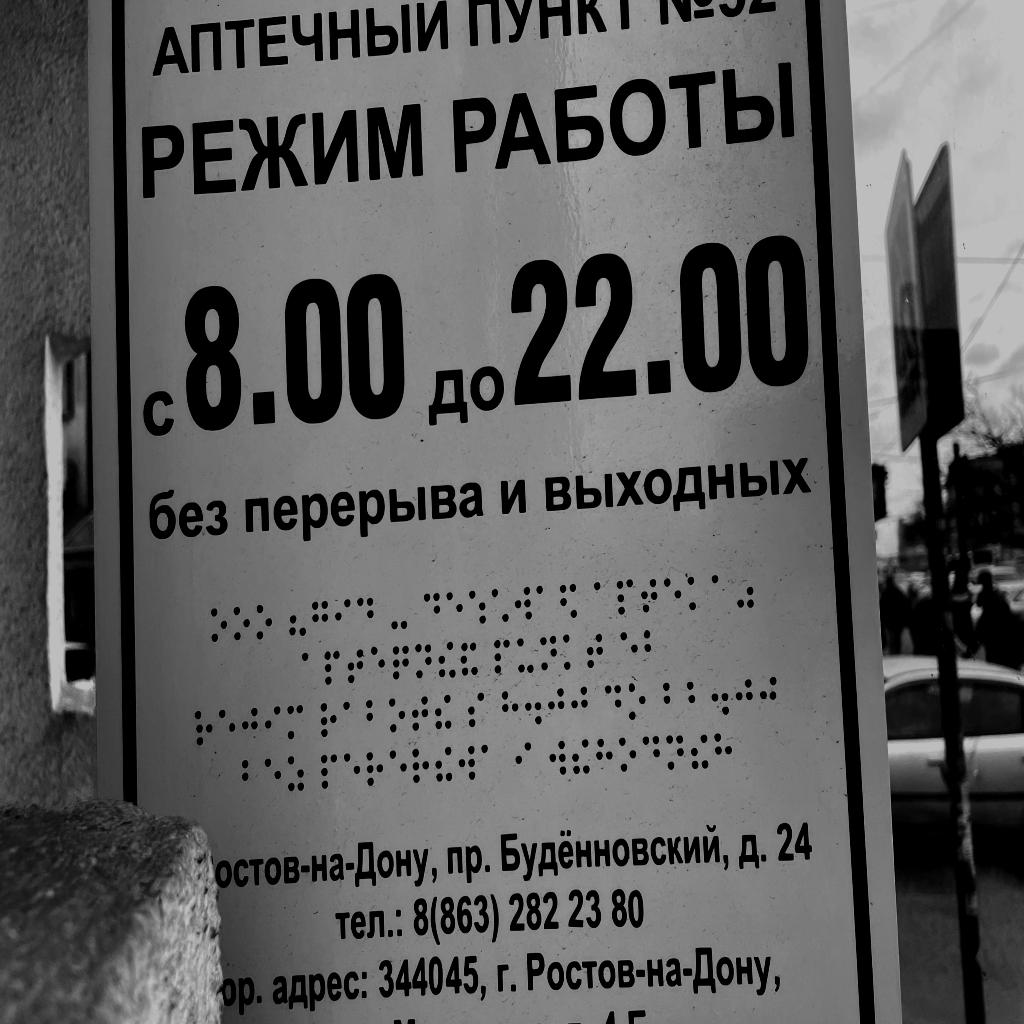_n: (665, 733, 685, 771), (540, 634, 558, 672), (416, 643, 432, 679)
_y: (517, 637, 534, 674)
a: (710, 573, 731, 612), (593, 580, 611, 617), (480, 743, 499, 778), (536, 584, 554, 620), (343, 701, 360, 736), (302, 653, 317, 686)
b: (241, 759, 258, 795), (366, 699, 383, 734)
ch: (393, 645, 409, 681)
d: (642, 735, 661, 772), (423, 593, 441, 631), (604, 684, 622, 722), (357, 598, 374, 632)
defis: (391, 596, 407, 629)
e: (662, 576, 683, 613), (446, 592, 463, 630), (219, 708, 236, 746), (390, 750, 407, 785), (343, 752, 360, 786), (265, 758, 281, 794), (371, 645, 385, 682)
g: (312, 601, 328, 637)
gh: (242, 706, 259, 746)
i: (264, 705, 281, 745), (515, 740, 532, 778), (335, 598, 351, 634)
iKratkoe: (461, 641, 478, 676)
ii: (689, 732, 711, 770), (439, 641, 456, 679), (573, 738, 590, 776), (436, 746, 453, 781), (435, 694, 451, 730)
k: (687, 574, 707, 614), (563, 632, 582, 672)
kavichki1: (290, 603, 305, 636)
kavichki2: (735, 570, 756, 610)
m: (286, 703, 304, 741)
o: (618, 737, 637, 774), (628, 682, 646, 721), (211, 607, 227, 642), (389, 698, 405, 733), (257, 605, 271, 640), (235, 607, 249, 640)
p: (616, 577, 634, 617), (494, 638, 510, 675), (321, 753, 337, 789), (324, 651, 339, 684)
r: (194, 710, 213, 746), (366, 751, 384, 787), (319, 703, 337, 738), (412, 749, 429, 784)
s: (468, 692, 485, 728)
sh: (469, 588, 486, 626)
t: (640, 577, 659, 616), (585, 632, 604, 670), (412, 695, 428, 731), (348, 649, 363, 683)
tochka: (711, 678, 730, 715), (525, 688, 541, 726)
v: (549, 739, 567, 776), (514, 586, 532, 622), (459, 745, 476, 781)
x: (714, 731, 734, 770), (595, 737, 614, 775)
ya: (559, 582, 578, 619)
yo: (492, 587, 509, 624)
z: (288, 755, 305, 792)
